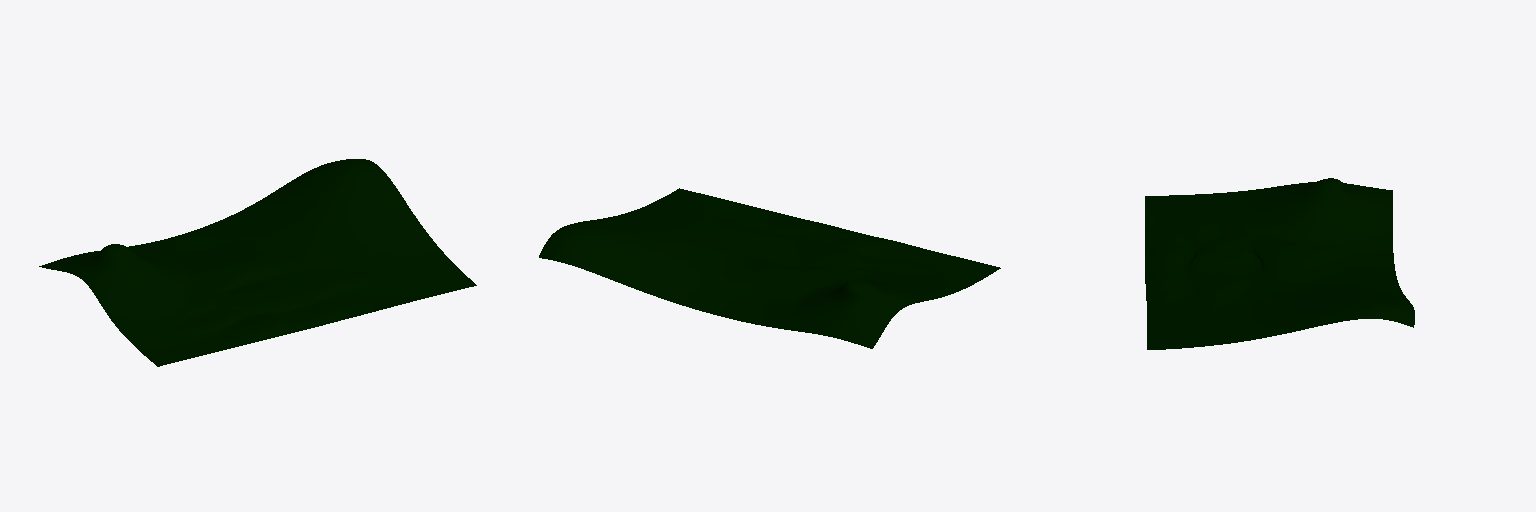
The model's file is level_1.obj.
3 views of the same model, side by side, from view 1: azimuth 30°, elevation 25°; view 2: azimuth 150°, elevation 25°; view 3: azimuth 270°, elevation 25° (orthographic).
Visible parts, largest first — view 1: Plane; view 2: Plane; view 3: Plane.
Boxes of the visible parts, box(x1,y1,x2,y2) form: Plane: box(39, 159, 476, 366); Plane: box(539, 188, 1000, 348); Plane: box(1145, 178, 1414, 349).
Size of the model in its own units: 310 by 37.52 by 219.